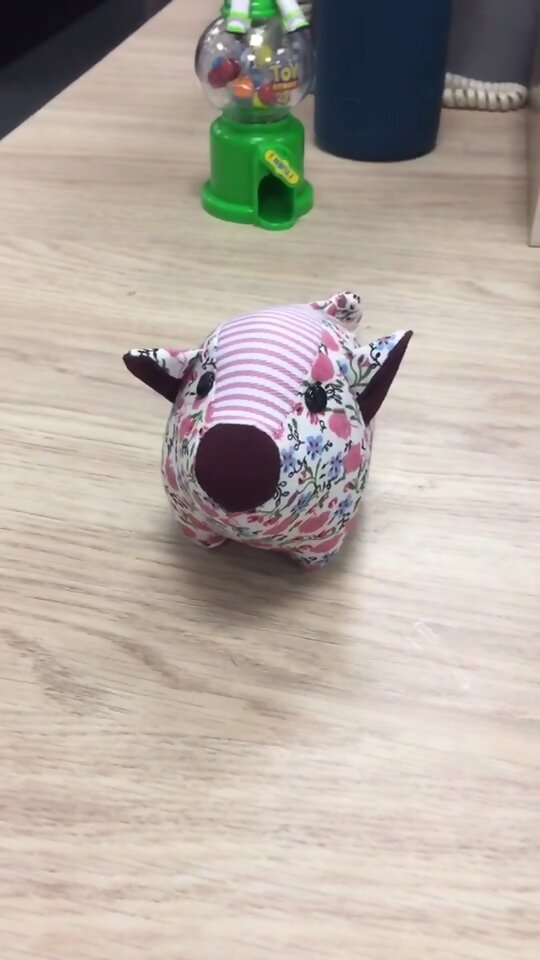pig: (121, 286, 413, 575)
